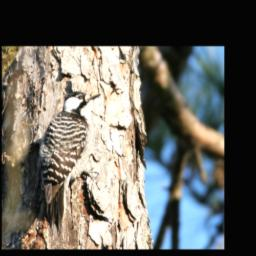Woodpecker: (38, 91, 102, 237)
